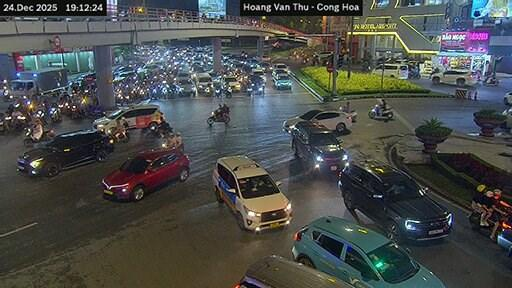motorbike: (467, 210, 499, 229), (22, 126, 54, 145), (147, 125, 172, 139), (368, 103, 393, 117), (6, 115, 28, 130), (207, 112, 229, 125), (108, 129, 128, 143), (32, 109, 47, 125), (339, 107, 355, 121), (83, 104, 102, 115), (214, 85, 230, 97), (0, 112, 9, 133), (246, 83, 263, 94), (163, 142, 182, 151), (499, 201, 511, 215), (48, 107, 60, 121), (70, 103, 82, 117), (483, 76, 498, 84), (409, 70, 419, 77), (496, 225, 501, 231), (505, 216, 511, 220)
